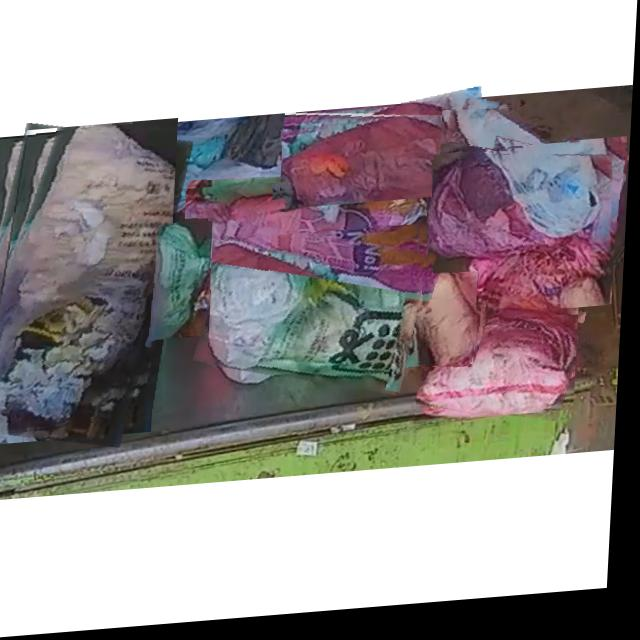general_trashbag: (213, 238, 428, 387), (158, 226, 214, 342)
other_trashbag: (0, 127, 177, 433), (433, 161, 615, 321), (188, 180, 450, 280), (284, 118, 486, 212), (422, 316, 580, 424), (441, 116, 569, 234), (509, 152, 629, 257), (420, 281, 480, 374)
